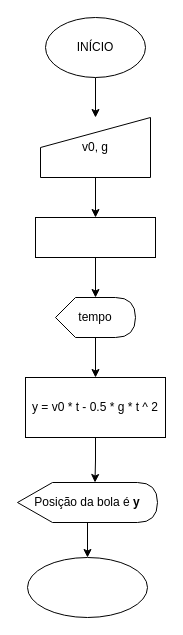
Some shapes in this 183 by 635 pixel diagram are drawn without their labels. Here are the shapes that lost their labels. From the top down, the box of each, then its label:
(34, 216, 156, 258): tempo = (2*v0) / g
(26, 556, 148, 618): FIM
